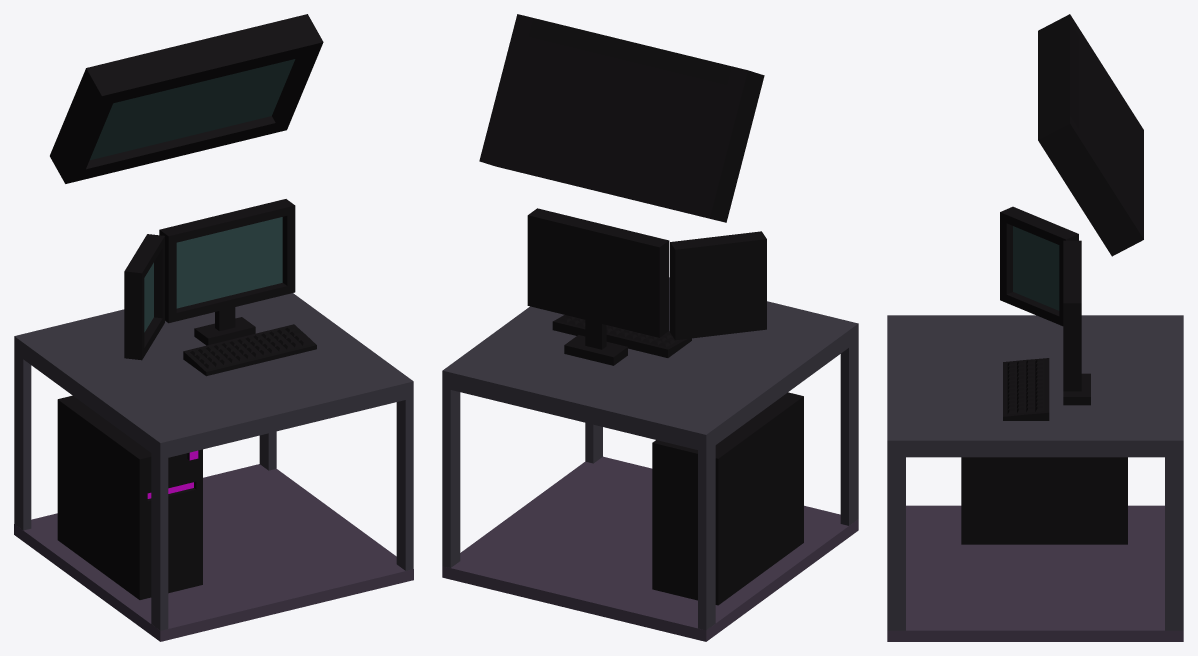
Rendered from tableComputer_metal.dae.
3 views of the same model, side by side, from view 1: azimuth 30°, elevation 25°; view 2: azimuth 150°, elevation 25°; view 3: azimuth 270°, elevation 25° (orthographic). The views are drawn at different scales.
Visible parts, largest first — view 1: table_metal_MSH1; view 2: table_metal_MSH1; view 3: table_metal_MSH1.
Part boxes in pixels (x1,y1,x2,y2): table_metal_MSH1: [14, 14, 413, 641]; table_metal_MSH1: [442, 14, 858, 641]; table_metal_MSH1: [887, 14, 1183, 641].
Bounding box in the file's own units: 1 × 1.9 × 1.
